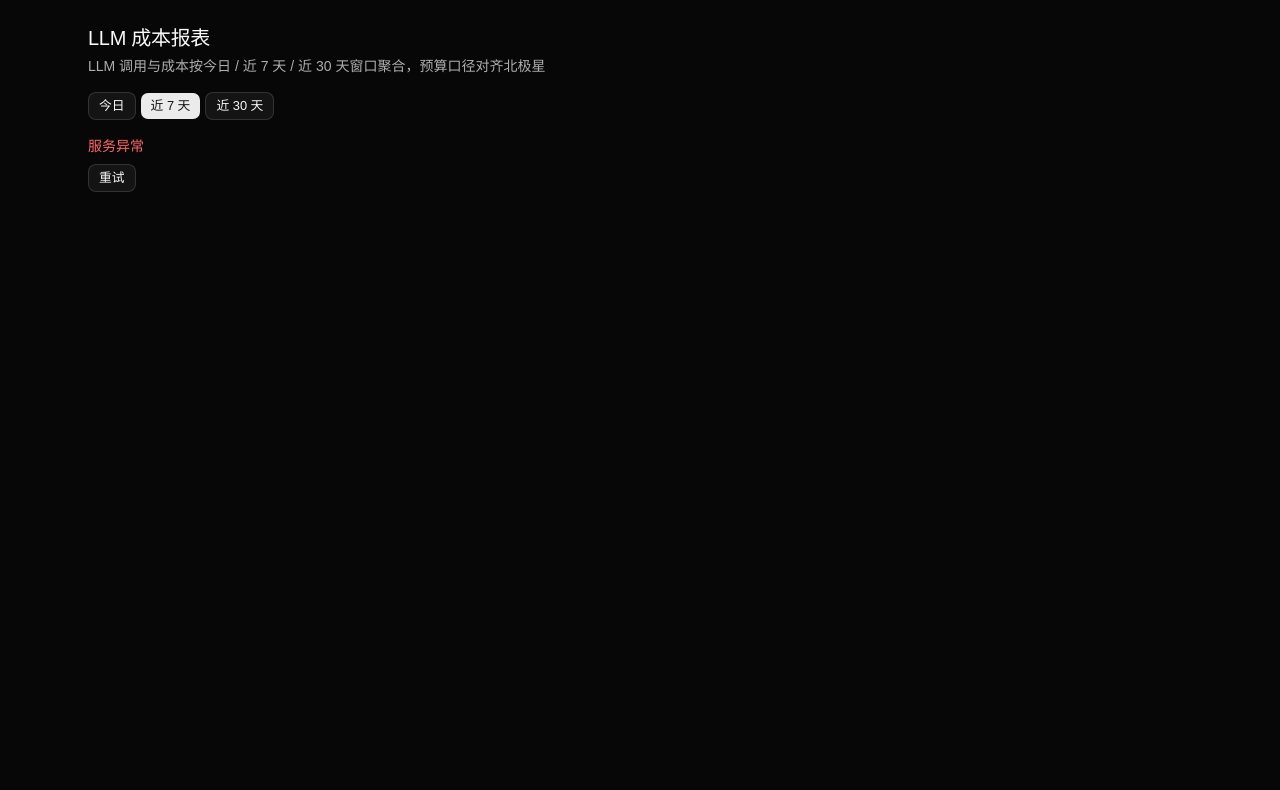
Test case: LlmCostReport 成本报表页 › 接口异常：显示错误与重试，重试后恢复（异常路径）
The image size is (1280, 790).
Expected: the element with test id "cost-report-error" shows "服务异常", [88,138,144,154]
Click the button with test id "cost-report-retry": (112, 178) [88,164,136,192]
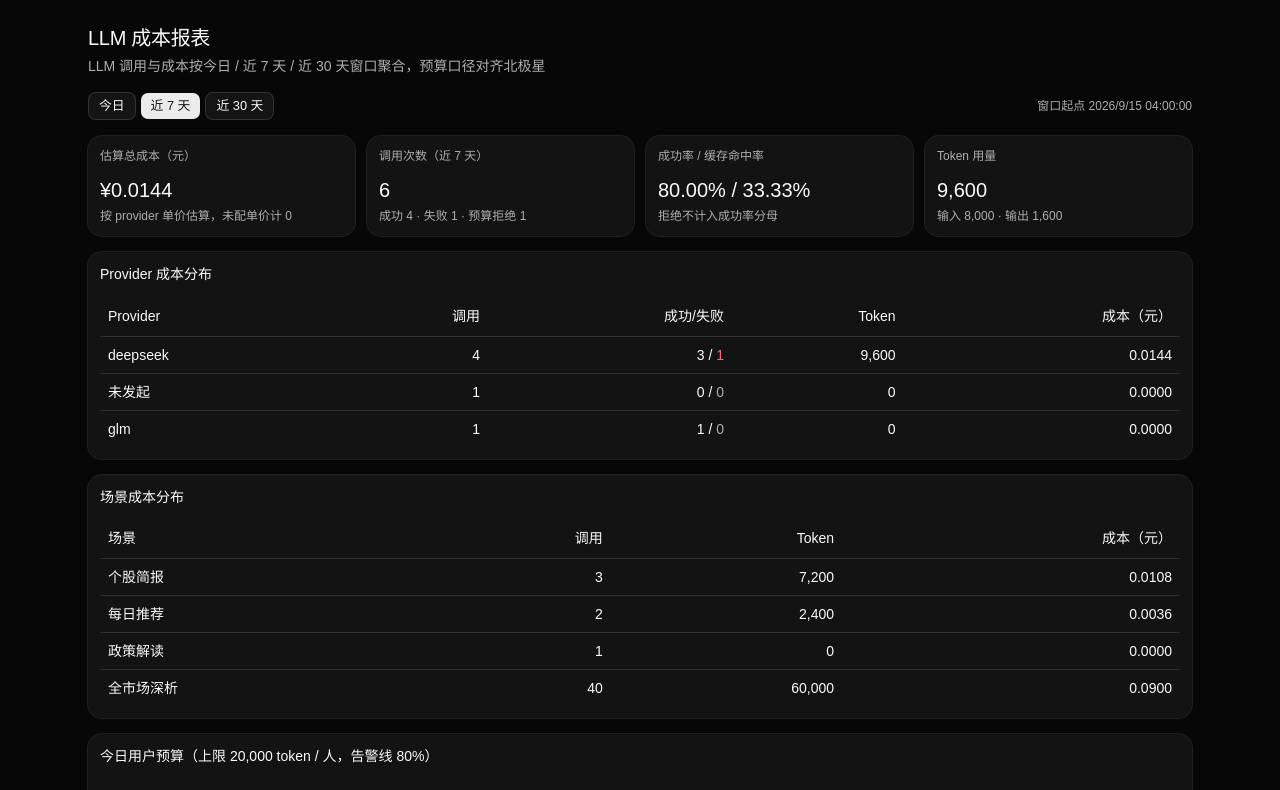
Expected: the element with test id "cost-summary-cost" shows "¥0.0144", [100,179,172,201]
